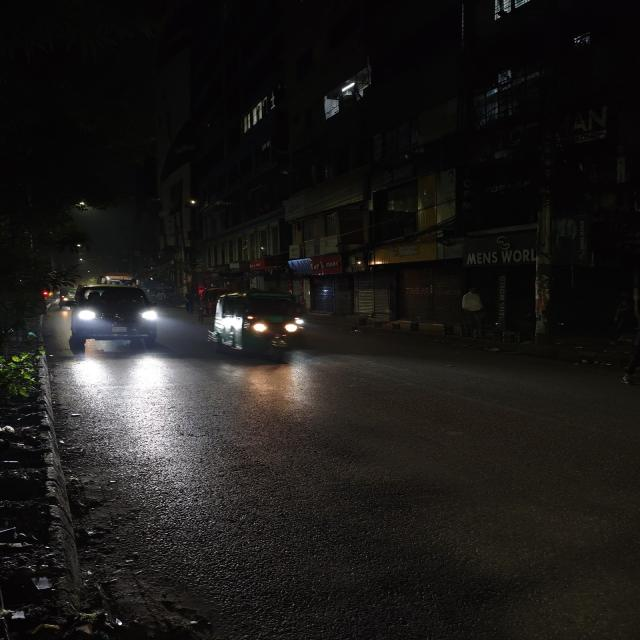car: (61, 282, 166, 355)
cng: (204, 288, 314, 365)
pedestrian: (456, 286, 490, 340)
